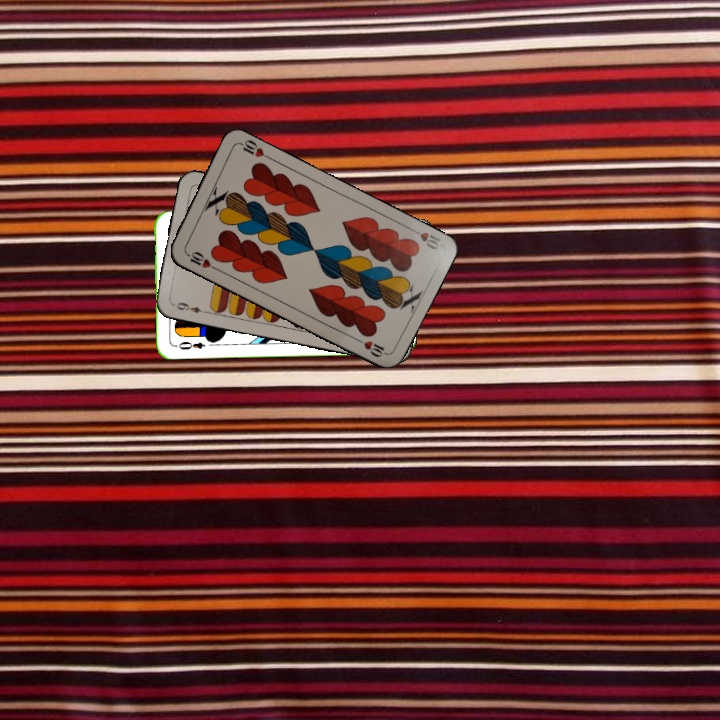E9: (169, 298, 209, 316)
EO: (175, 338, 207, 353)
H10: (405, 224, 443, 252), (181, 247, 219, 272)
